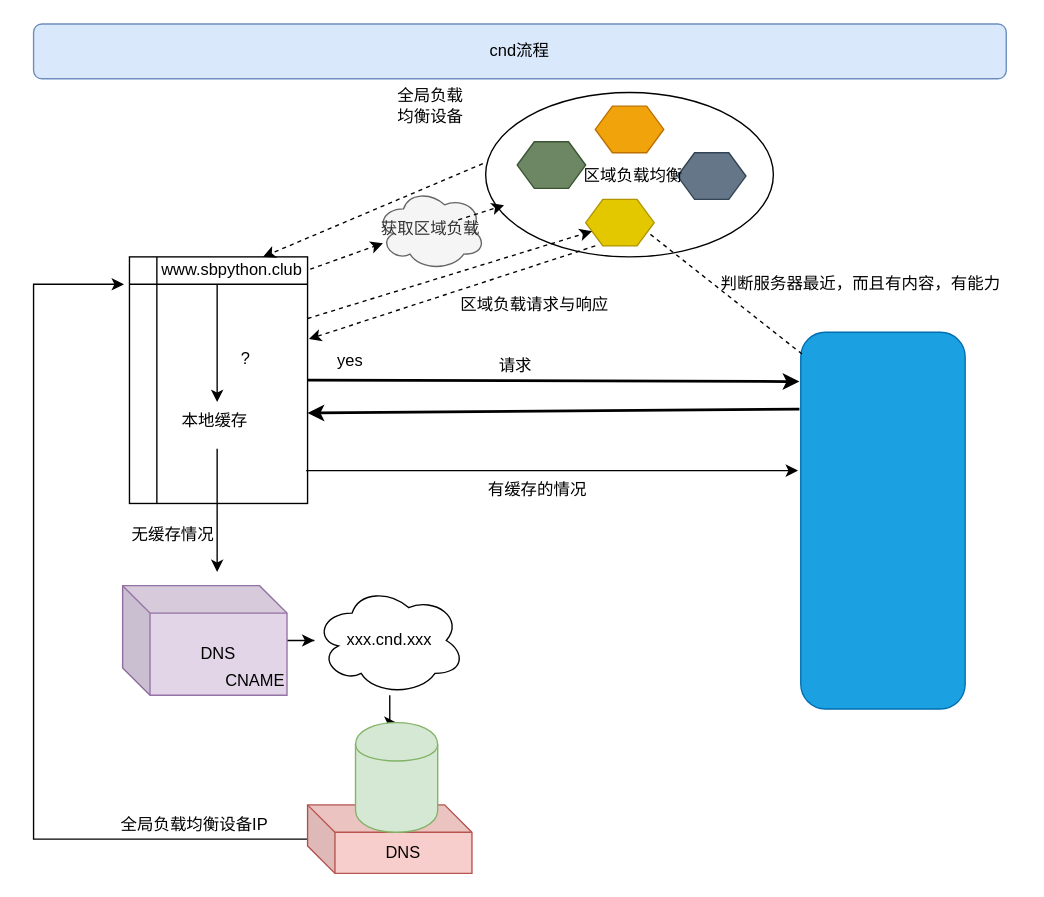
This 1044x897 diagram has some shape labels left out. The box of each missing label's shape, as (x1, y1, x2, y2) in pixels:
CND: (354, 721, 438, 832)
服务器: (799, 331, 965, 709)
